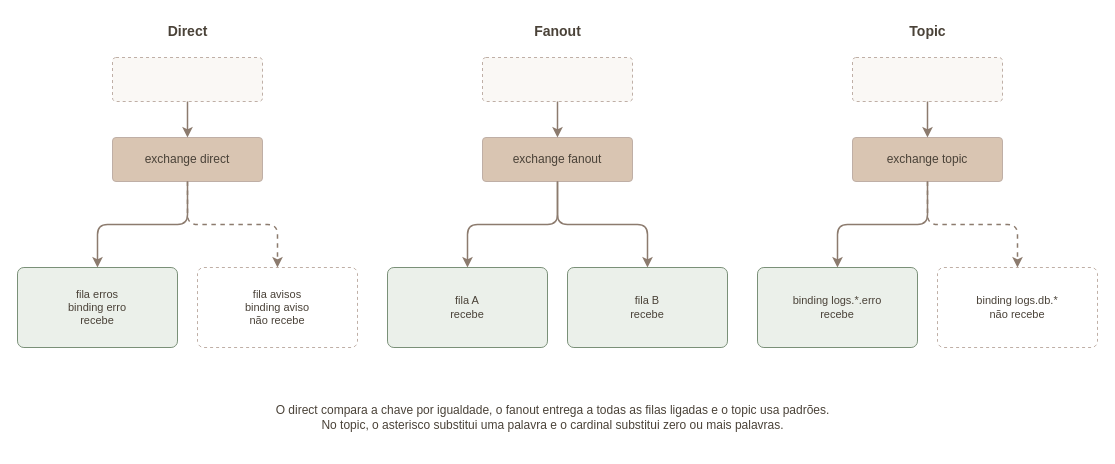
Image size: 1115x464. Some labels were removed from this diagram. The centre of each missing label's shape, as x and y in pixels:
"mensagem (chave ignorada)" belongs at [557,79].
"mensagem chave erro" belongs at [187,79].
"mensagem chave logs.web.erro" belongs at [927,79].
